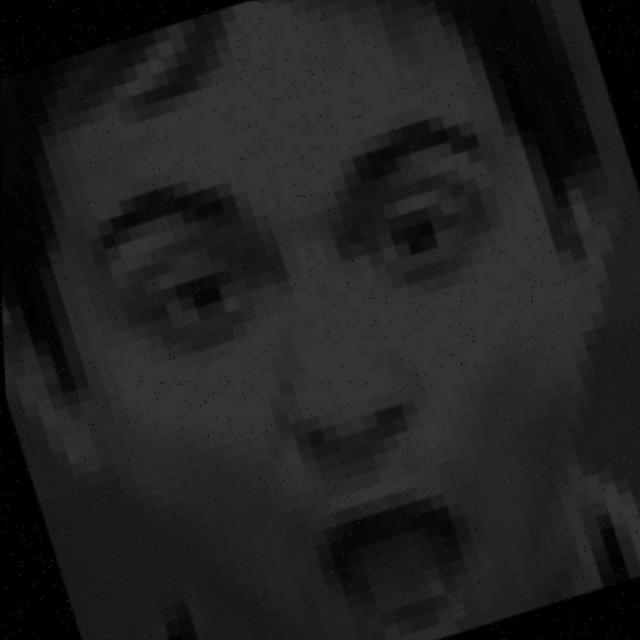Surprised: (73, 73, 635, 640)
